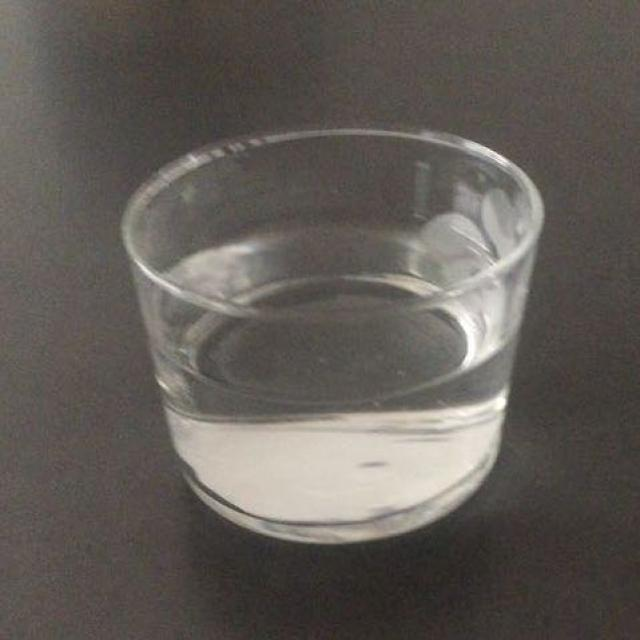water: (119, 221, 542, 539), (122, 218, 530, 544), (143, 200, 522, 539), (143, 211, 518, 547), (130, 218, 518, 536), (143, 222, 530, 538), (142, 206, 516, 530), (151, 213, 538, 526), (124, 224, 526, 523), (138, 214, 527, 520), (147, 235, 546, 525), (134, 216, 505, 526), (158, 237, 548, 528), (186, 227, 543, 522)
